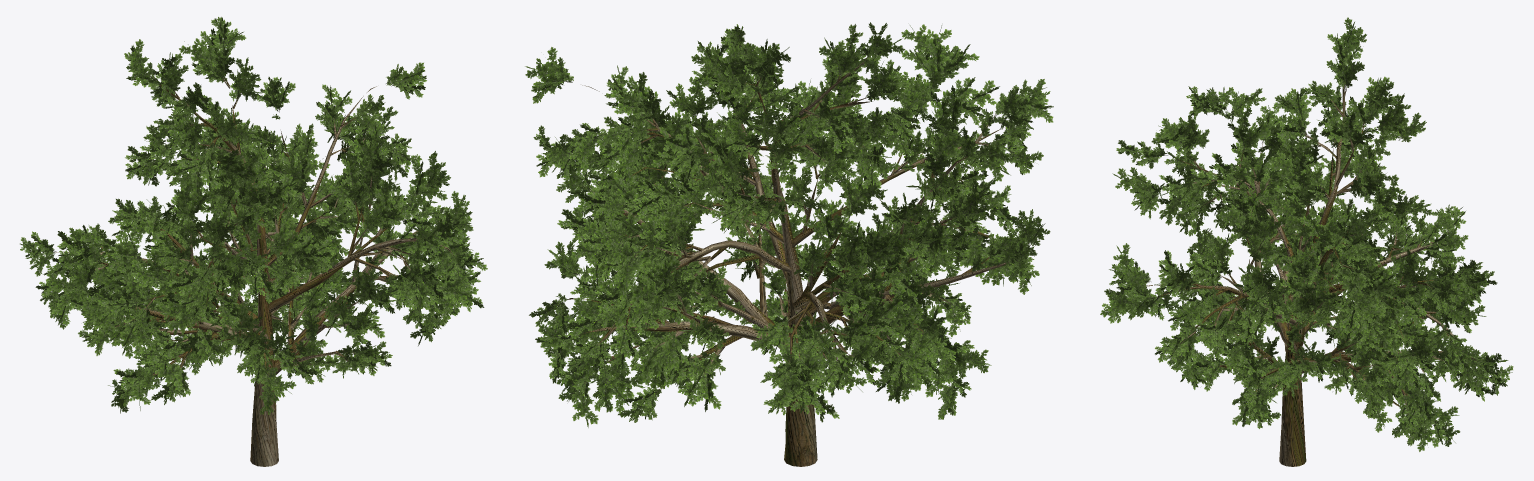
Rendered from oak-101-lod2.glb.
3 renders of one model, left to right at view 1: azimuth 30°, elevation 25°; view 2: azimuth 150°, elevation 25°; view 3: azimuth 270°, elevation 25°, orthographic. The views are drawn at different scales.
Visible parts, largest first — view 1: leaves, branches; view 2: leaves, branches; view 3: leaves, branches.
Part boxes in pixels (bbox=[...]): leaves: bbox=[20, 17, 487, 415]; branches: bbox=[55, 76, 453, 466]; leaves: bbox=[525, 22, 1053, 427]; branches: bbox=[568, 56, 1008, 466]; leaves: bbox=[1100, 17, 1513, 451]; branches: bbox=[1146, 85, 1477, 466].
Size of the model in its own units: 18.6 by 18 by 17.39.
Materials: 2 (2 with a texture image).
